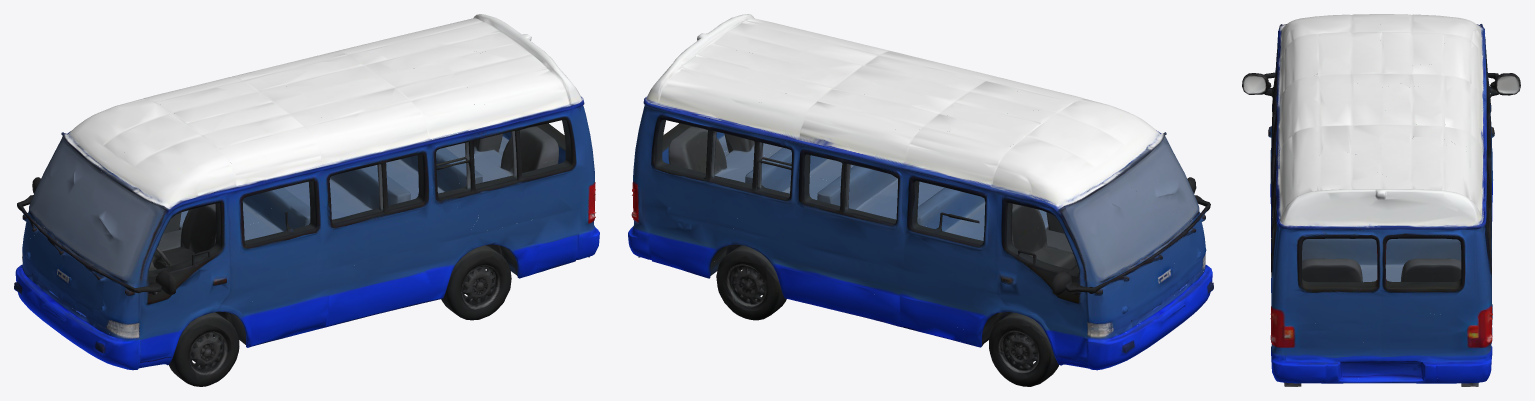
File: dolmus.glb
3 renders of one model, left to right at view 1: azimuth 30°, elevation 25°; view 2: azimuth 150°, elevation 25°; view 3: azimuth 270°, elevation 25°, orthographic.
Parts seen in each view (by area): view 1: tripo_node_d732e650-0b41-4230-bfec-2237c8029421, wheel_y_2, wheel_y_0; view 2: tripo_node_d732e650-0b41-4230-bfec-2237c8029421, wheel_y_3, wheel_y_1; view 3: tripo_node_d732e650-0b41-4230-bfec-2237c8029421.
Part boxes in pixels (x1=…): tripo_node_d732e650-0b41-4230-bfec-2237c8029421: x1=14, y1=14, x2=599, y2=380; wheel_y_2: x1=441, y1=256, x2=511, y2=320; wheel_y_0: x1=169, y1=324, x2=234, y2=386; tripo_node_d732e650-0b41-4230-bfec-2237c8029421: x1=628, y1=14, x2=1213, y2=377; wheel_y_3: x1=717, y1=256, x2=786, y2=320; wheel_y_1: x1=993, y1=325, x2=1058, y2=386; tripo_node_d732e650-0b41-4230-bfec-2237c8029421: x1=1242, y1=14, x2=1520, y2=386.
Size of the model in its own units: 1 by 0.4299 by 0.4893.
1 material, 1 textured.
